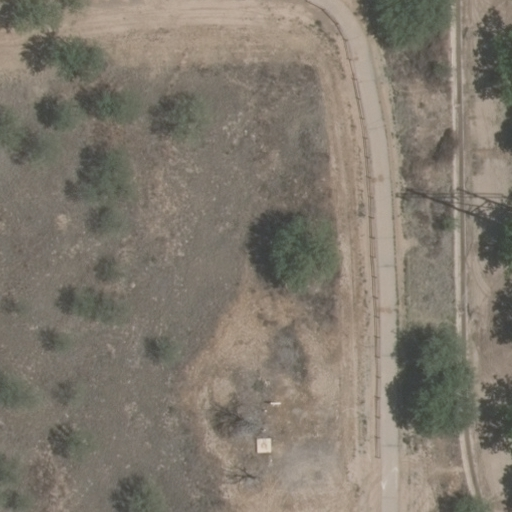TT: (406, 182, 510, 227)
